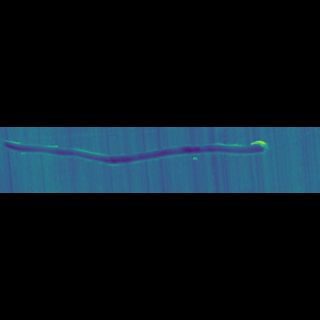Loch: (0, 155, 270, 161)
